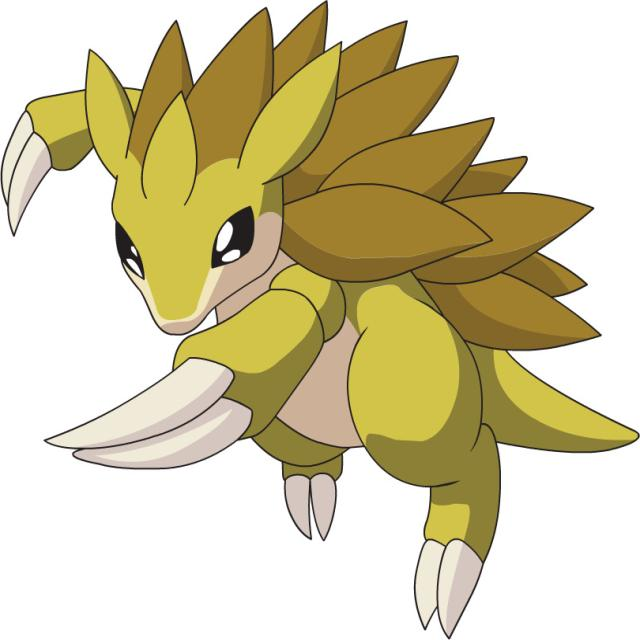Sandslash: (79, 38, 512, 540)
